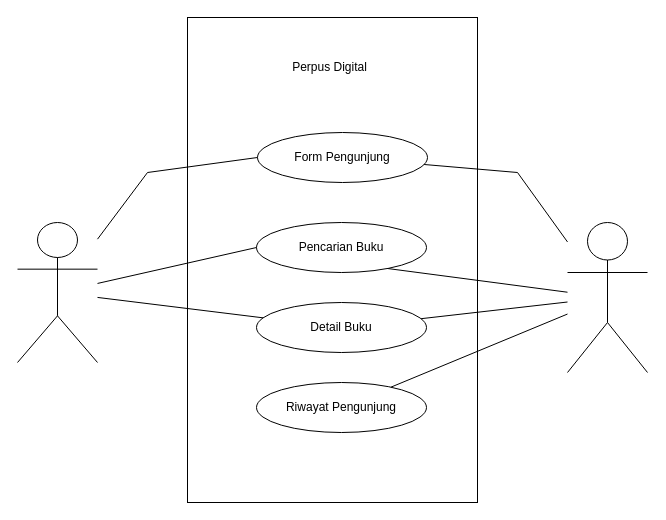
This 666x520 diagram has some shape labels left out. Here are the shapes that lost their labels. From the top down, the centre of each, then its label:
At (x=57, y=292): "Pengunjung".
At (x=607, y=297): "Perpustakawan".
